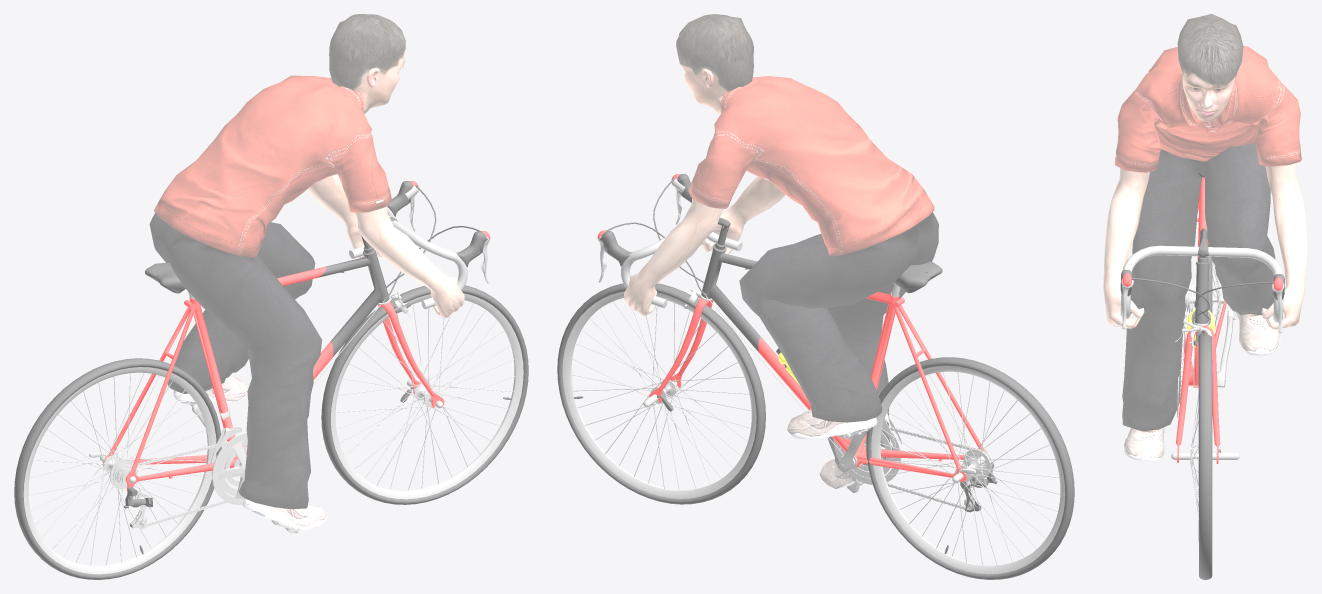
The model's file is rider.glb.
3 views of the same model, side by side, from view 1: azimuth 30°, elevation 25°; view 2: azimuth 150°, elevation 25°; view 3: azimuth 270°, elevation 25° (orthographic). The views are drawn at different scales.
Visible parts, largest first — view 1: 骑行者, 骑行者wheelBL, 骑行者wheelFL; view 2: 骑行者, 骑行者wheelBL, 骑行者wheelFL; view 3: 骑行者, 骑行者wheelFL, 骑行者wheelBL.
Boxes of the visible parts, x1=… form: 骑行者: x1=89, y1=14, x2=490, y2=533; 骑行者wheelBL: x1=14, y1=358, x2=221, y2=579; 骑行者wheelFL: x1=321, y1=285, x2=528, y2=504; 骑行者: x1=597, y1=14, x2=997, y2=512; 骑行者wheelBL: x1=866, y1=357, x2=1074, y2=579; 骑行者wheelFL: x1=557, y1=283, x2=765, y2=504; 骑行者: x1=1103, y1=14, x2=1307, y2=463; 骑行者wheelFL: x1=1171, y1=333, x2=1239, y2=579; 骑行者wheelBL: x1=1190, y1=256, x2=1226, y2=334.
Size of the model in its own units: 1.66 by 1.54 by 0.55.
Materials: 5 (1 with a texture image).
